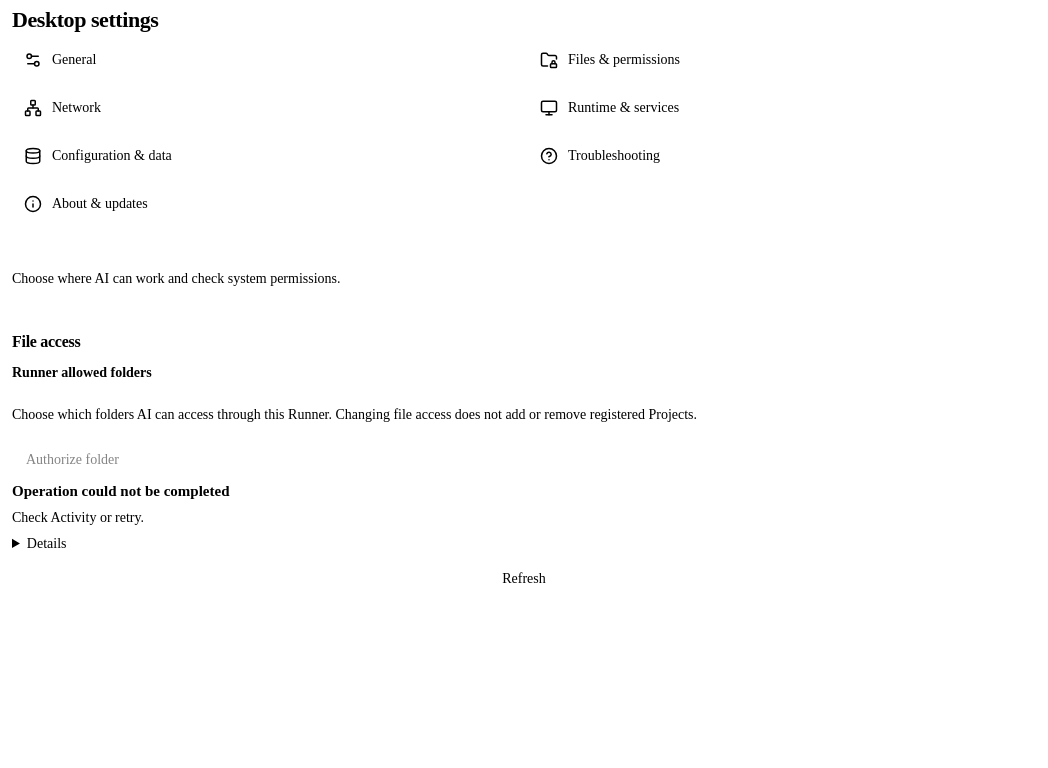
Test case: Settings observation and action ownership › shows a failed settings read and allows recovery without leaving the page
Expected: the button "Authorize folder" is disabled, left=12, top=440, right=133, bottom=480
Click the button "Refresh": (524, 578) left=12, top=558, right=1036, bottom=598
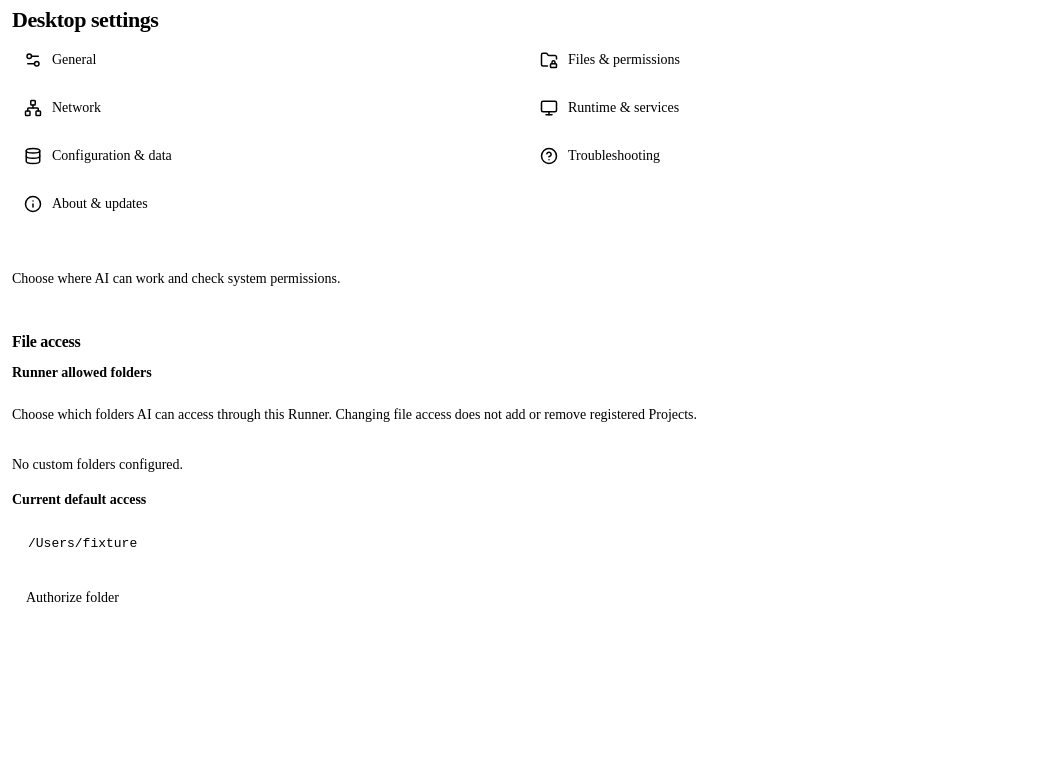
Now the button "Authorize folder" is enabled, box left=12, top=577, right=133, bottom=617
Now the message "Operation could not be completed Check Activity or retry. Details Refresh" is gone
